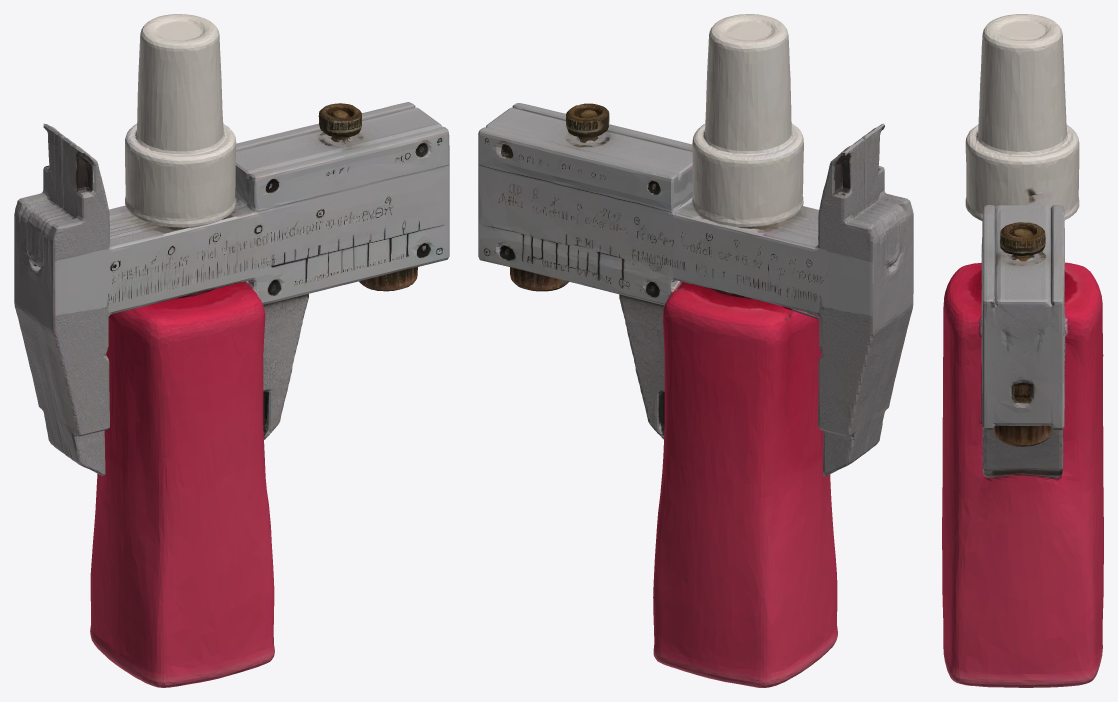
Rendered from tail (79).glb.
3 renders of one model, left to right at view 1: azimuth 30°, elevation 25°; view 2: azimuth 150°, elevation 25°; view 3: azimuth 270°, elevation 25°, orthographic.
Parts seen in each view (by area): view 1: Hy21_Mesh.obj; view 2: Hy21_Mesh.obj; view 3: Hy21_Mesh.obj.
Boxes of the visible parts, <box> form: Hy21_Mesh.obj: <box>14,14,449,687</box>; Hy21_Mesh.obj: <box>478,14,913,687</box>; Hy21_Mesh.obj: <box>942,14,1103,687</box>.
Size of the model in its own units: 1.3 by 1.96 by 0.4565.
1 material, 1 textured.
